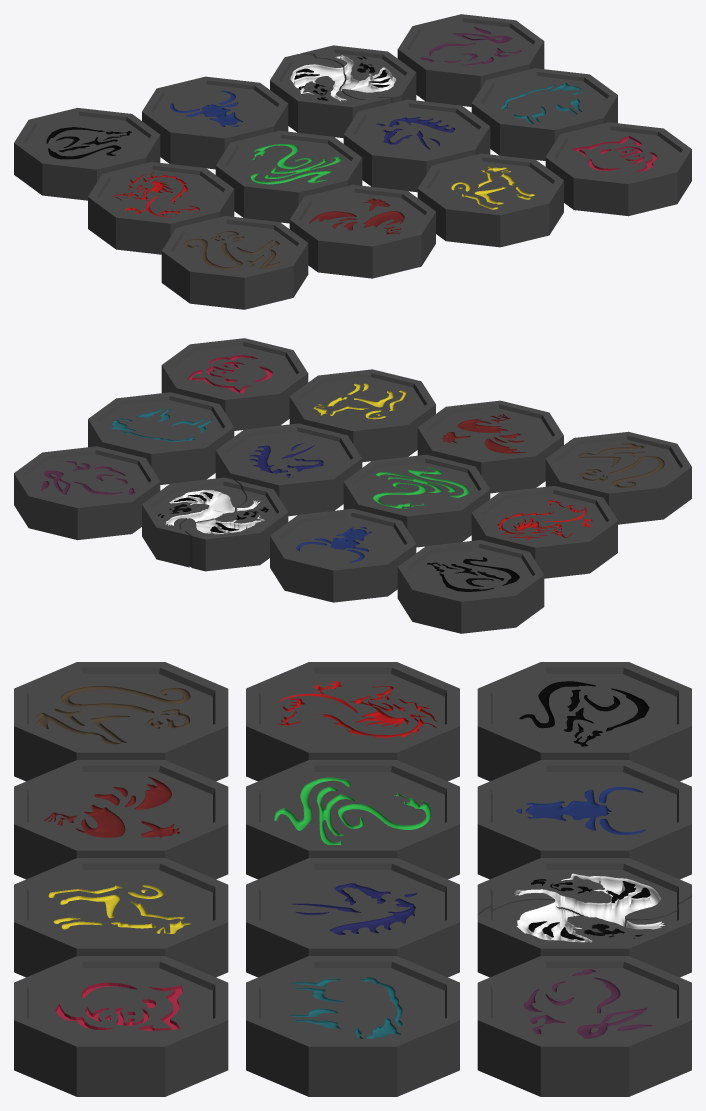
Rendered from zodiac.glb.
3 renders of one model, top to bottom at view 1: azimuth 30°, elevation 25°; view 2: azimuth 150°, elevation 25°; view 3: azimuth 270°, elevation 25°, orthographic. The views are drawn at different scales.
Visible parts, largest first — view 1: monkey, pig, chicken, dog, mouse, dragon, horse, rabbit, snake, cattle, tiger, sheep; view 2: mouse, cattle, rabbit, tiger, monkey, dragon, horse, pig, snake, chicken, dog, sheep; view 3: rabbit, pig, sheep, mouse, monkey, cattle, chicken, tiger, dog, dragon, snake, horse.
Boxes of the visible parts, x1,y1,x2,y2 form: monkey: (161, 216, 308, 309); pig: (545, 122, 691, 216); chicken: (289, 184, 435, 278); dog: (417, 153, 563, 247); mouse: (14, 107, 160, 200); dragon: (88, 162, 234, 254); horse: (343, 99, 490, 192); rabbit: (397, 14, 544, 106); snake: (215, 130, 362, 223); cattle: (142, 76, 288, 169); tiger: (270, 45, 416, 138); sheep: (471, 68, 617, 160); mouse: (397, 540, 544, 633); cattle: (270, 508, 416, 602); rabbit: (14, 446, 160, 540); tiger: (142, 477, 288, 571); monkey: (545, 431, 691, 524); dragon: (471, 486, 617, 578); horse: (215, 423, 362, 516); pig: (161, 338, 308, 430); snake: (343, 454, 490, 547); chicken: (417, 400, 563, 493); dog: (289, 369, 435, 462); sheep: (88, 392, 234, 484); rabbit: (477, 956, 691, 1096); pig: (14, 956, 228, 1096); sheep: (246, 956, 459, 1096); mouse: (477, 662, 691, 781); monkey: (14, 662, 228, 781); cattle: (477, 760, 691, 879); chicken: (14, 760, 228, 879); tiger: (477, 858, 691, 977); dog: (14, 858, 228, 977); dragon: (246, 662, 459, 781); snake: (246, 760, 459, 879); horse: (246, 858, 459, 977).
Size of the model in its own units: 7.85 by 0.4782 by 5.85.
